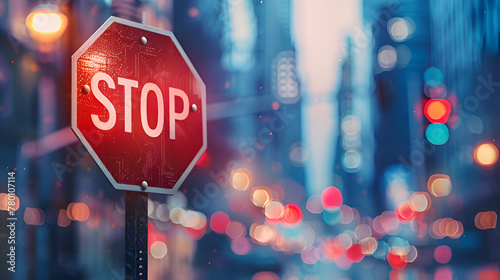StopSign: (70, 15, 206, 194)
